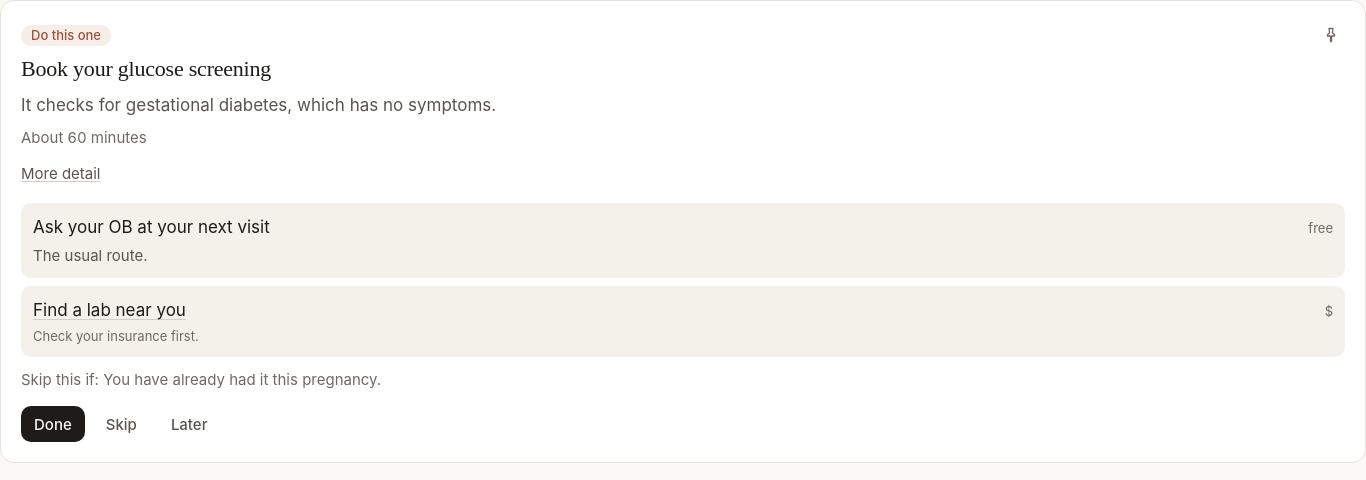
Test case: ActionItem › marks an action done and offers an undo
The width and height of the screenshot is (1366, 480).
Step 1. Click the button "Done" → (53, 424), box [21, 406, 85, 442]
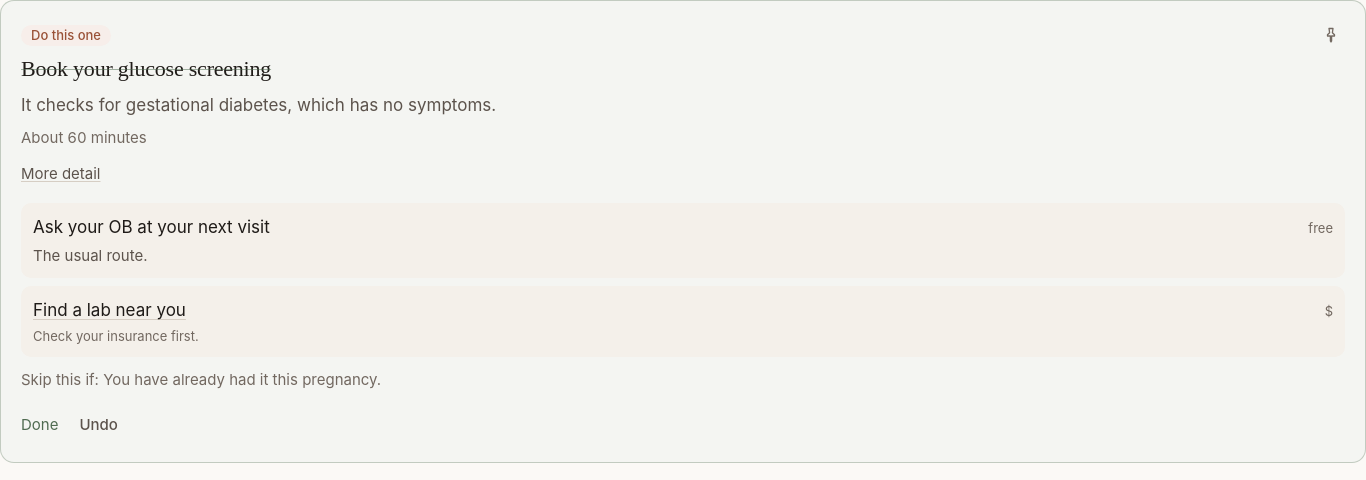
Result: the button "Undo" is shown at [66, 406, 131, 442]
